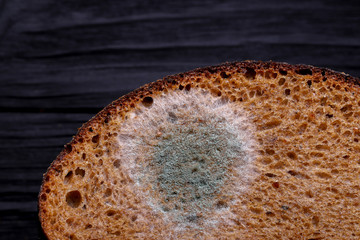mold_bread: (119, 91, 261, 229)
